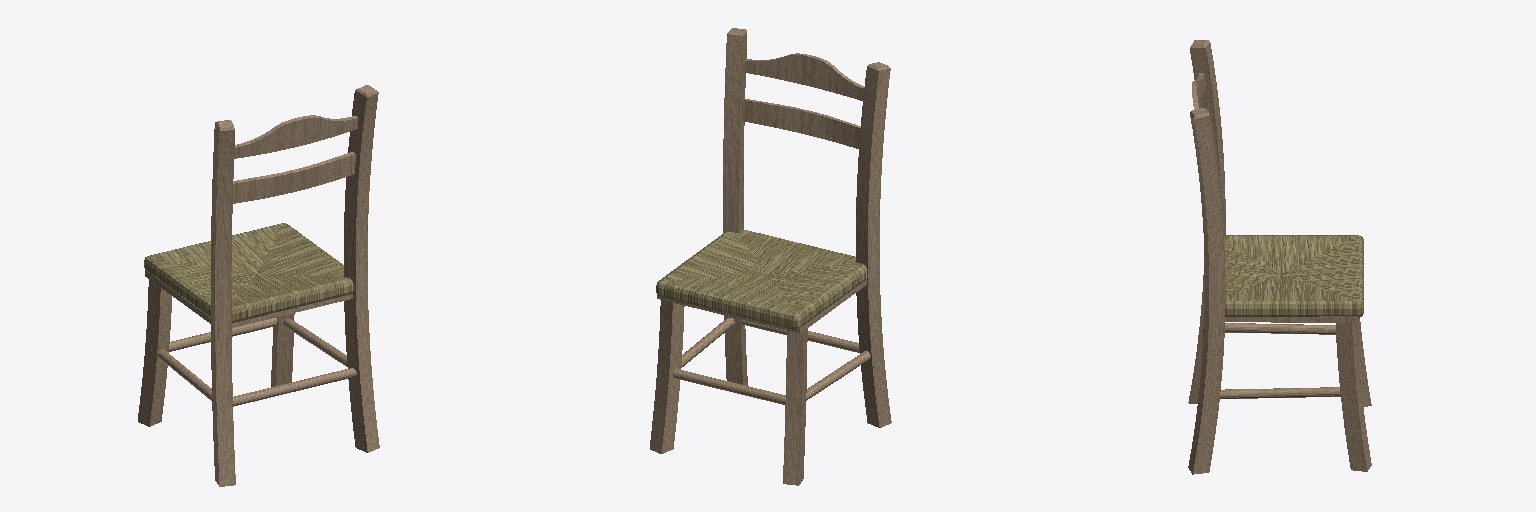
3 renders of one model, left to right at view 1: azimuth 30°, elevation 25°; view 2: azimuth 150°, elevation 25°; view 3: azimuth 270°, elevation 25°, orthographic.
Visible parts, largest first — view 1: main, seat; view 2: main, seat; view 3: main, seat.
Boxes of the visible parts, x1=… form: main: x1=138, y1=85, x2=379, y2=486; seat: x1=144, y1=223, x2=353, y2=322; main: x1=650, y1=28, x2=891, y2=485; seat: x1=656, y1=229, x2=867, y2=329; main: x1=1188, y1=40, x2=1371, y2=474; seat: x1=1224, y1=235, x2=1363, y2=317.
Bounding box in the file's own units: 16.9 × 36.21 × 16.77.
Materials: 2 (2 with a texture image).